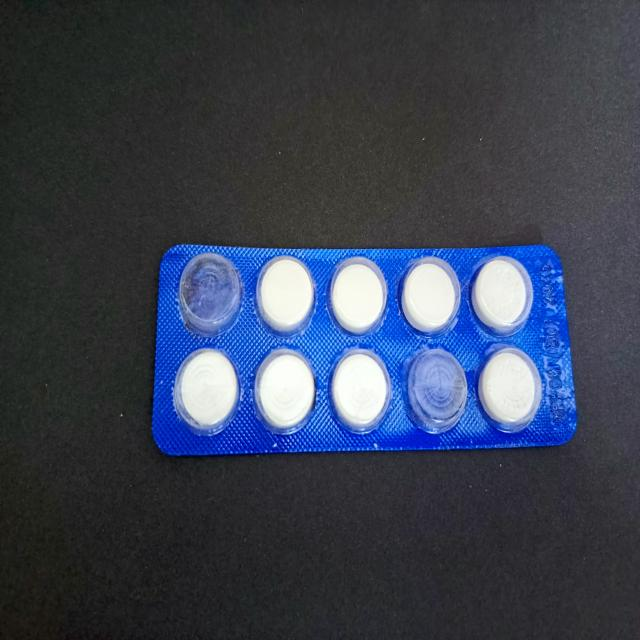defect: (173, 244, 244, 340), (405, 345, 472, 437)
